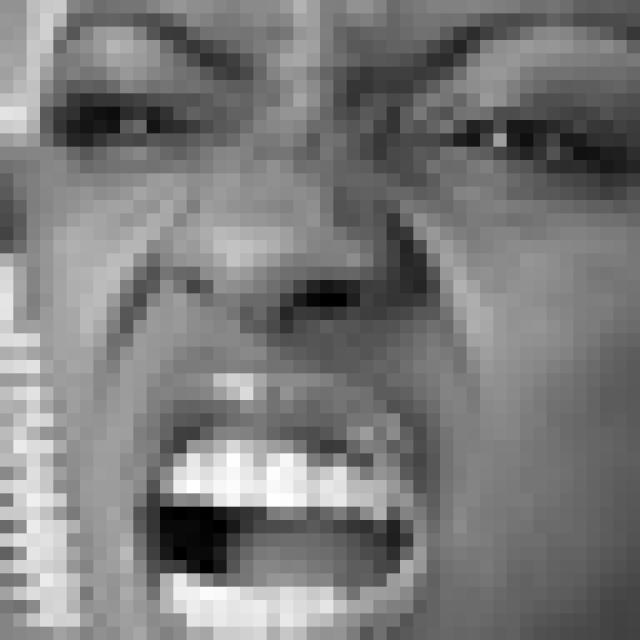angry: (45, 4, 640, 640)
